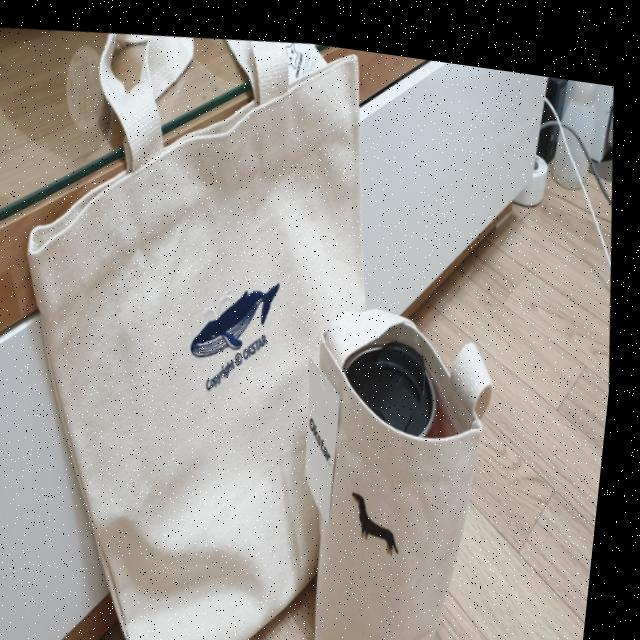ecobag: (0, 2, 430, 640)
